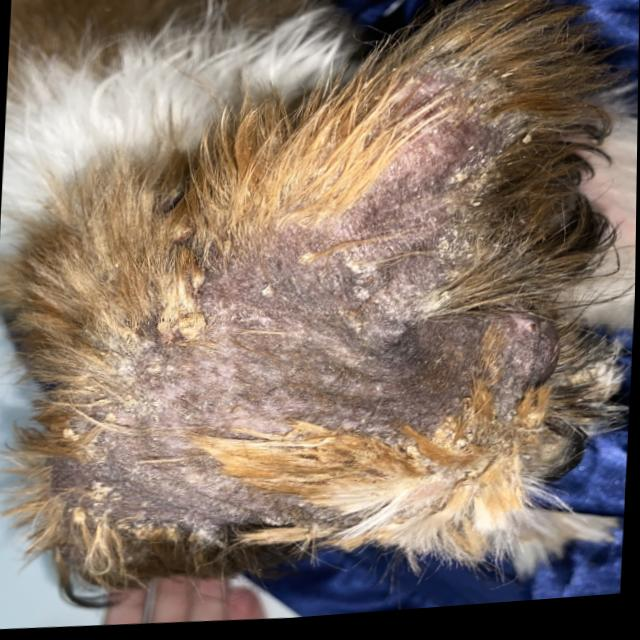demodicosis: (233, 197, 534, 391), (55, 329, 226, 534)
